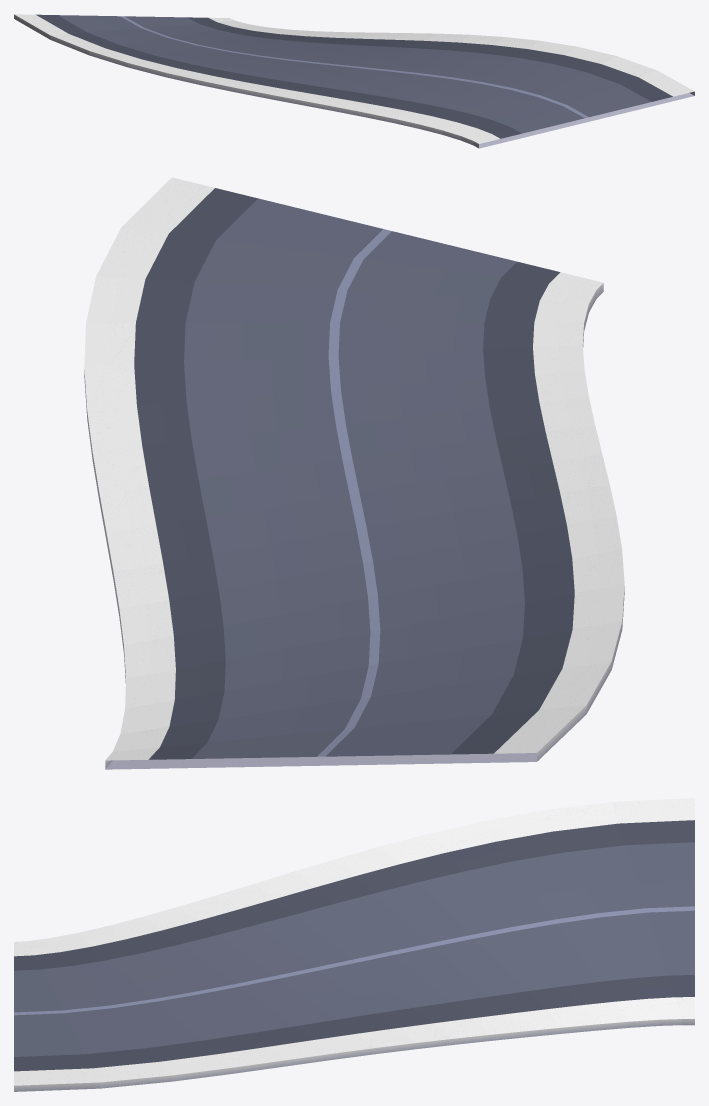
The model's file is road-Chicane-Flat-HalfBankedRight-Down1-Left1-Size2.glb.
The picture shows the model from 3 angles, top to bottom: view 1: azimuth 30°, elevation 25°; view 2: azimuth 150°, elevation 25°; view 3: azimuth 270°, elevation 25°; orthographic projection. The views are drawn at different scales.
Parts seen in each view (by area): view 1: road-Chicane-Flat-HalfBankedRight-Down1-Left1-Size2; view 2: road-Chicane-Flat-HalfBankedRight-Down1-Left1-Size2; view 3: road-Chicane-Flat-HalfBankedRight-Down1-Left1-Size2.
Boxes of the visible parts, box(x1,y1,x2,y2) form: road-Chicane-Flat-HalfBankedRight-Down1-Left1-Size2: box(14, 14, 694, 148); road-Chicane-Flat-HalfBankedRight-Down1-Left1-Size2: box(84, 177, 624, 769); road-Chicane-Flat-HalfBankedRight-Down1-Left1-Size2: box(14, 798, 694, 1091).
Size of the model in its own units: 2 by 0.27 by 2.
Materials: 1 (1 with a texture image).
